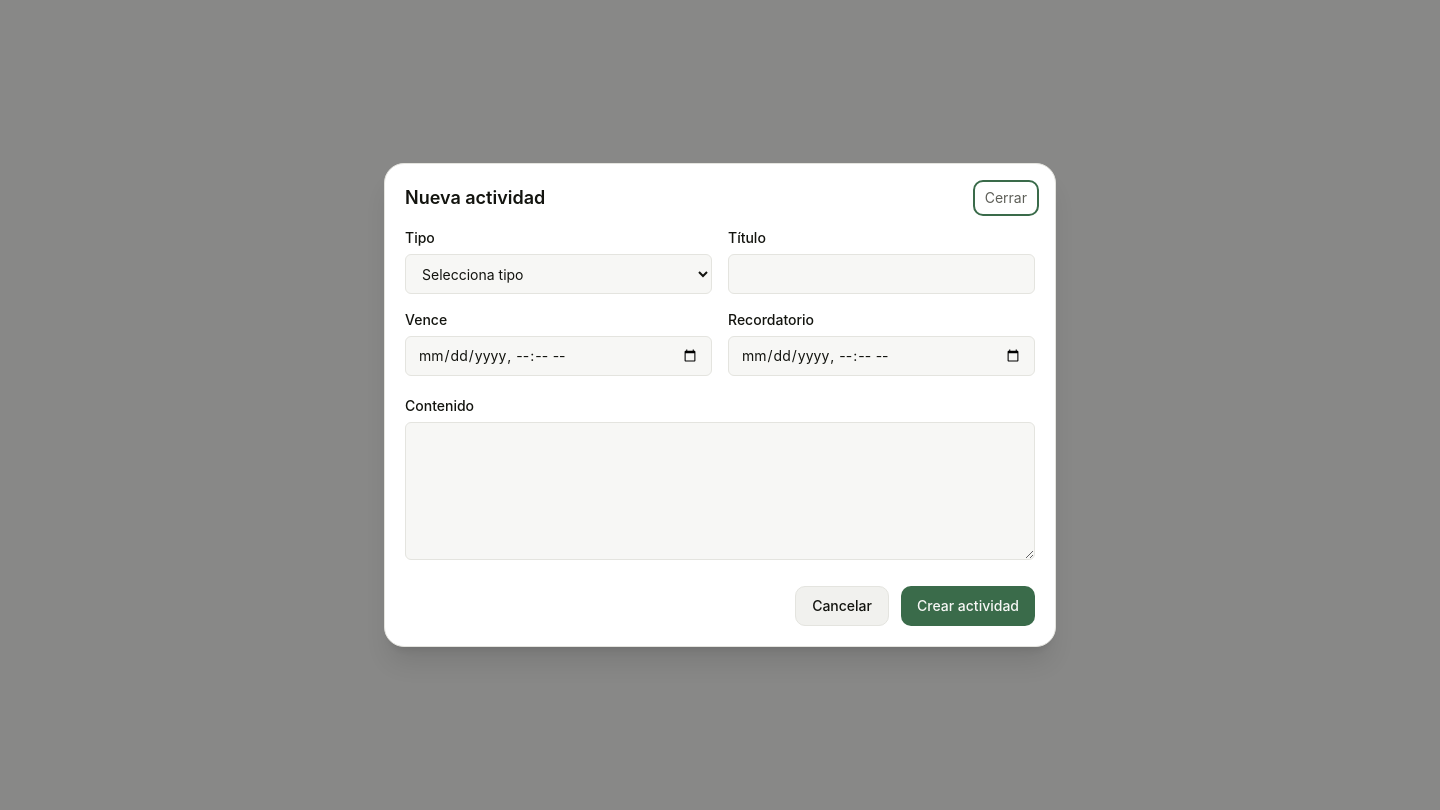
Test: ActivityFormDialog › validación bloquea submit sin kind
Click the button "Crear actividad" at x=968, y=606, box [901,586,1035,626]
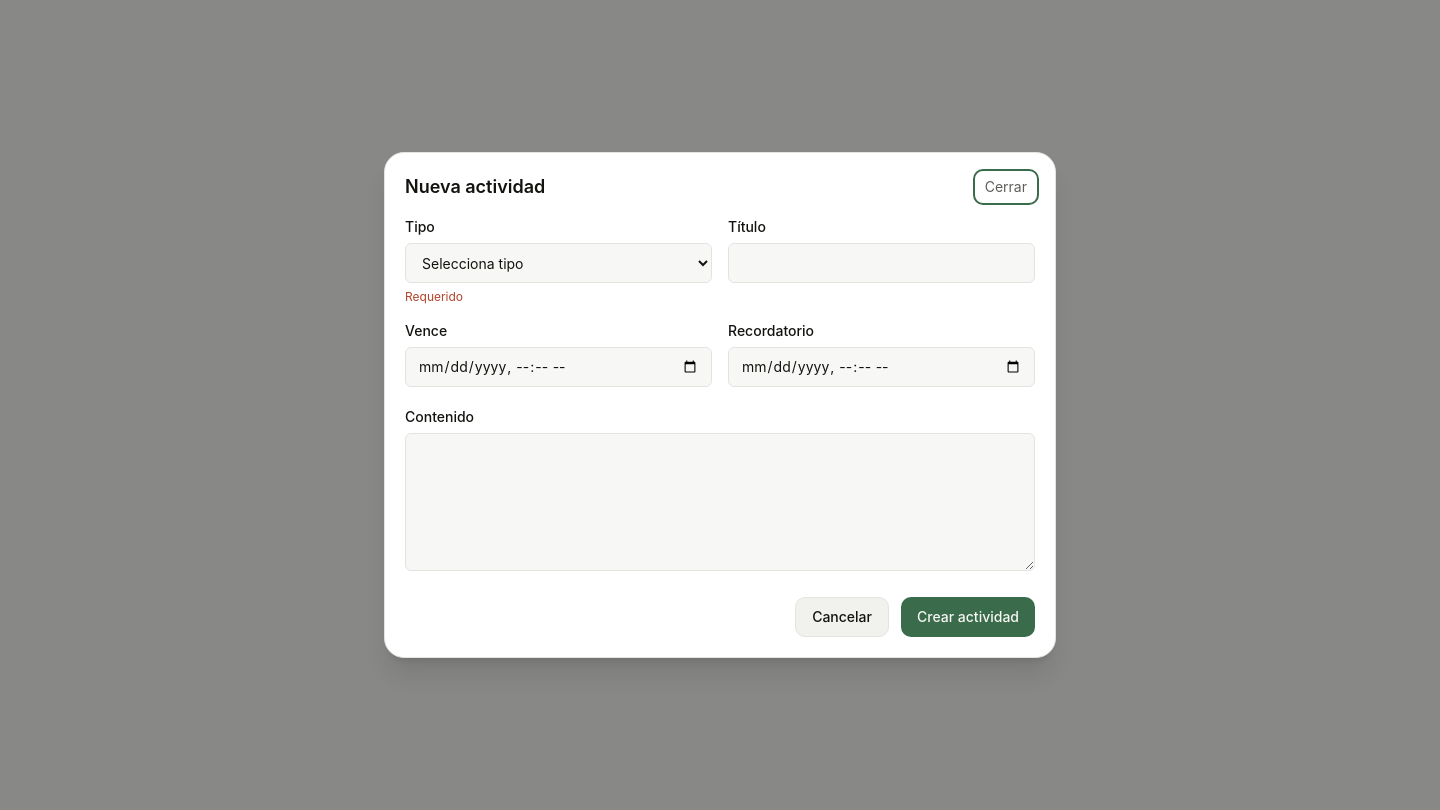
Expected: the text "Requerido" is shown, [405,289,463,304]
